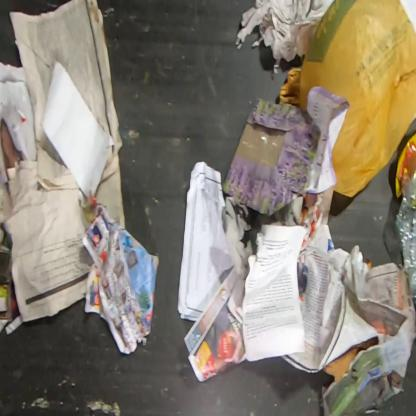cardboard: (221, 98, 320, 216), (324, 338, 378, 384), (0, 243, 12, 323)
rigid_plastic: (395, 171, 416, 300)
soft_plastic: (276, 1, 416, 198), (395, 132, 415, 198)
